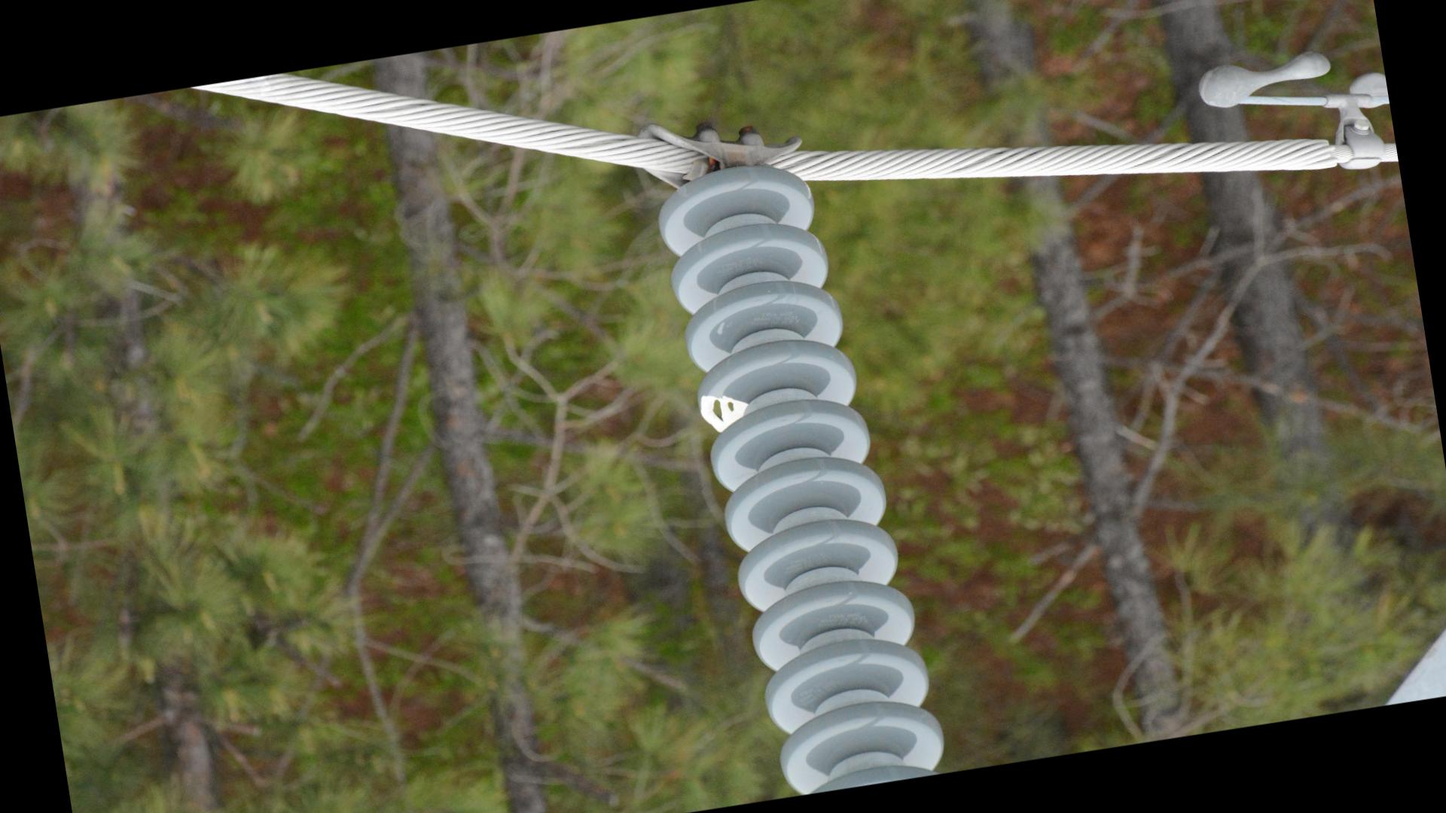damper: (1188, 32, 1399, 199)
